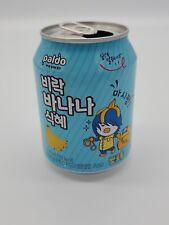metal: (34, 22, 137, 173)
